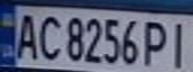2: (81, 13, 106, 64)
5: (103, 15, 124, 65)
6: (118, 17, 145, 66)
8: (60, 12, 84, 63)
A: (9, 10, 42, 61)
C: (33, 11, 63, 62)
I: (166, 18, 193, 70)
P: (139, 17, 172, 69)
